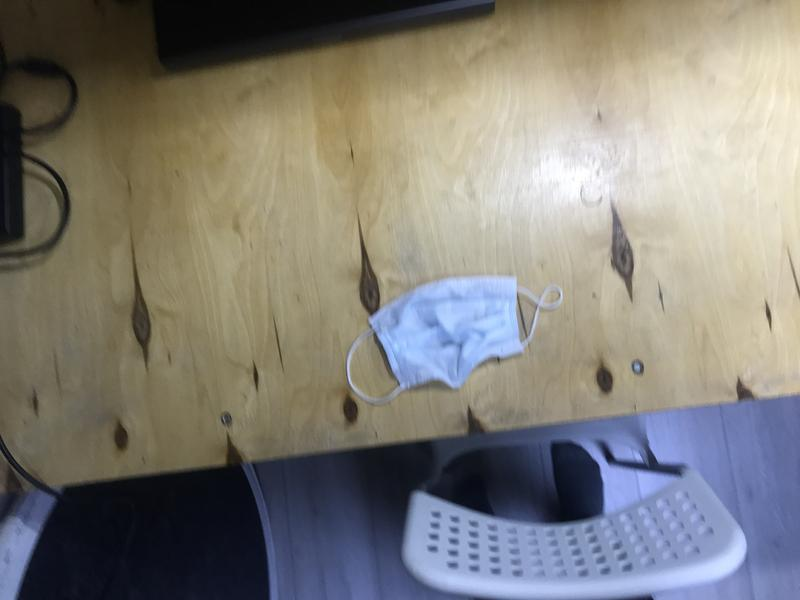medical_mask: (345, 275, 563, 405)
